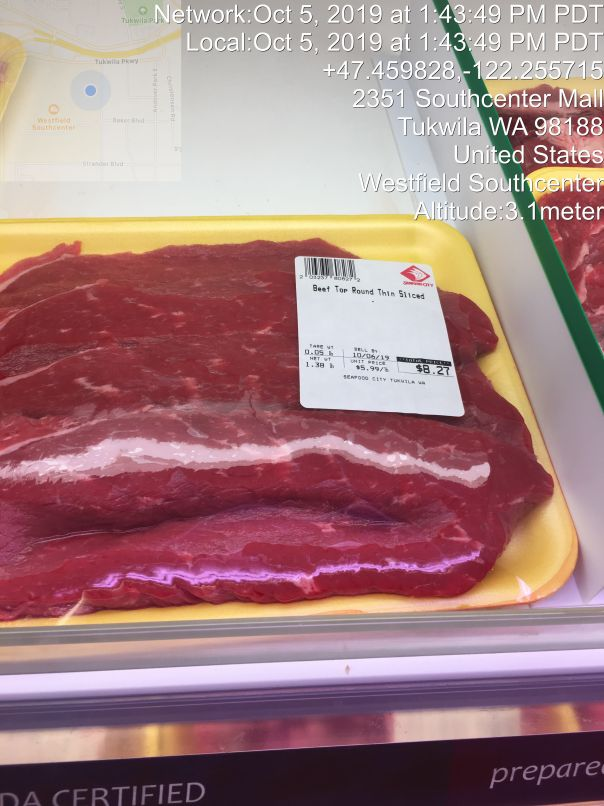Beef Tor Round Thin Sliced: (3, 221, 575, 611)
Label: (284, 234, 489, 430)
Location: (351, 83, 604, 199)
Time: (148, 1, 604, 59)
